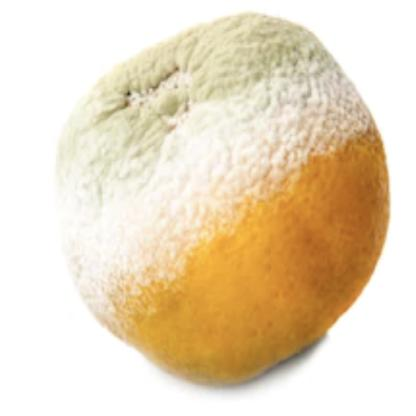rotten: (52, 16, 390, 385)
